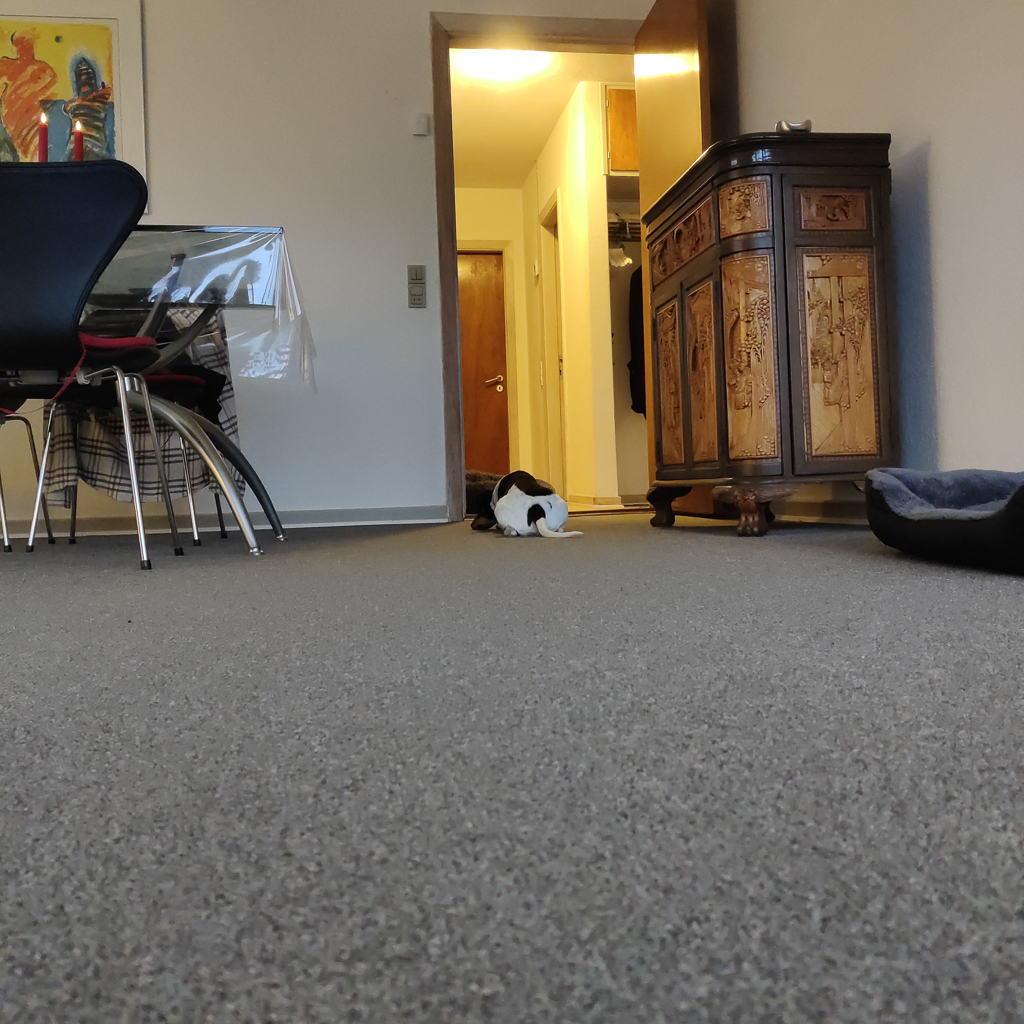Dog: (465, 462, 593, 545)
